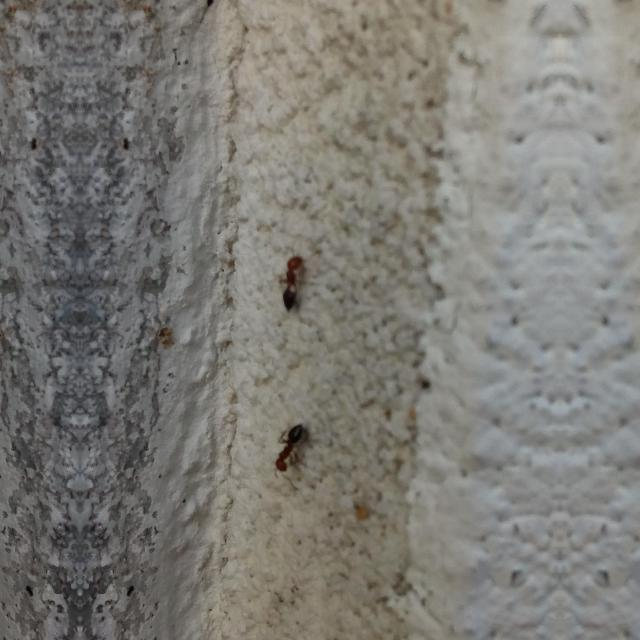Crematogaster: (267, 246, 311, 320), (265, 422, 307, 472)
